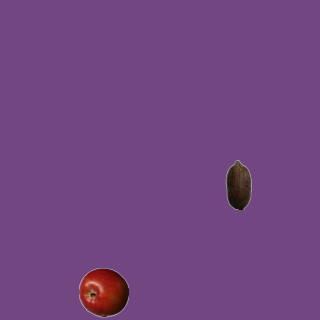Apple Braeburn: (78, 267, 128, 317)
Nut Pecan: (213, 159, 263, 209)
